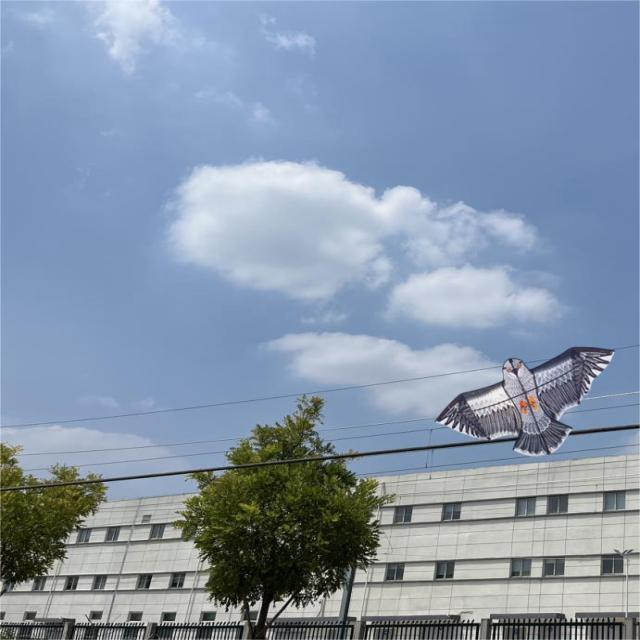floating object: (458, 346, 608, 454)
